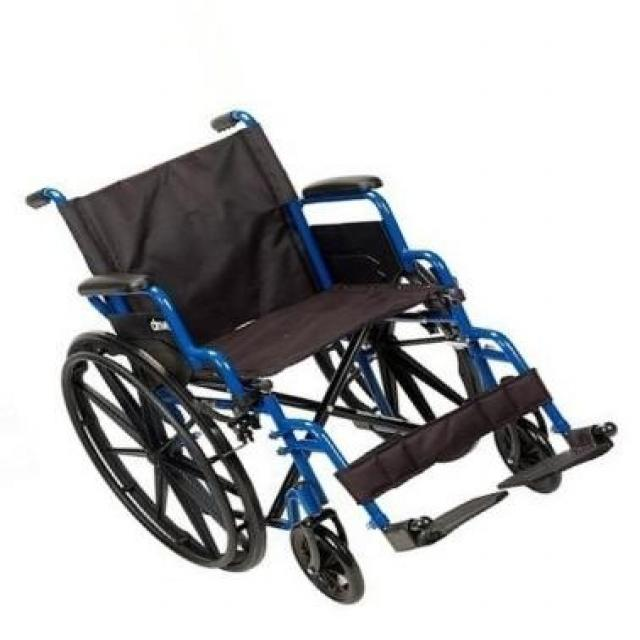wheelchair: (27, 99, 627, 608)
